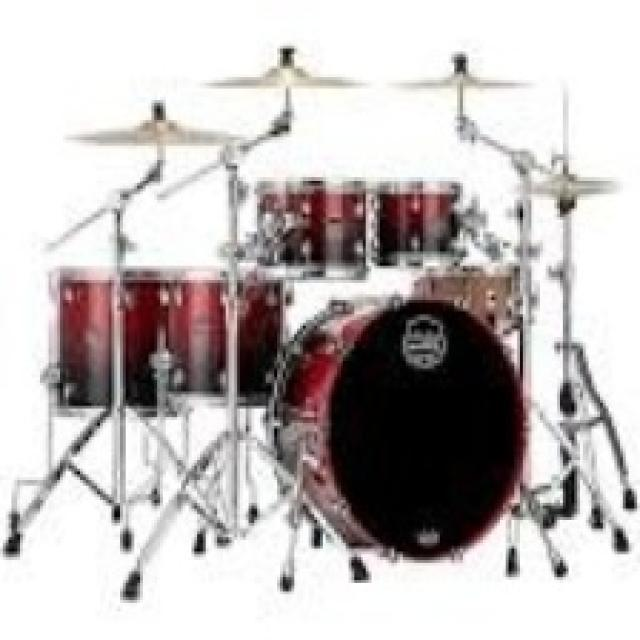drums: (1, 46, 640, 584)
